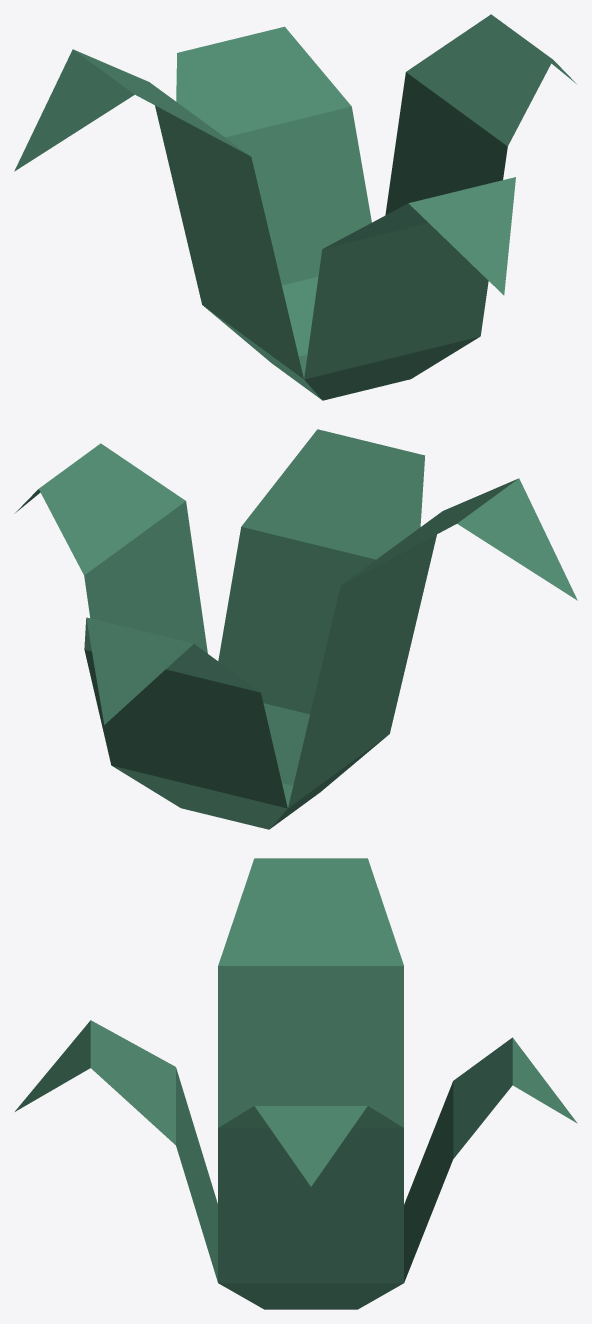
Rendered from naturePack_flat_003.obj.
3 views of the same model, one above another, from view 1: azimuth 30°, elevation 25°; view 2: azimuth 150°, elevation 25°; view 3: azimuth 270°, elevation 25° (orthographic). The views are drawn at different scales.
Parts seen in each view (by area): view 1: Mesh1_Plant_3_Model; view 2: Mesh1_Plant_3_Model; view 3: Mesh1_Plant_3_Model.
Part boxes in pixels (x1,y1,x2,y2): Mesh1_Plant_3_Model: (14,14,576,400); Mesh1_Plant_3_Model: (14,429,577,829); Mesh1_Plant_3_Model: (15,858,577,1309).
Size of the model in its own units: 1.15 by 0.6961 by 1.09.
